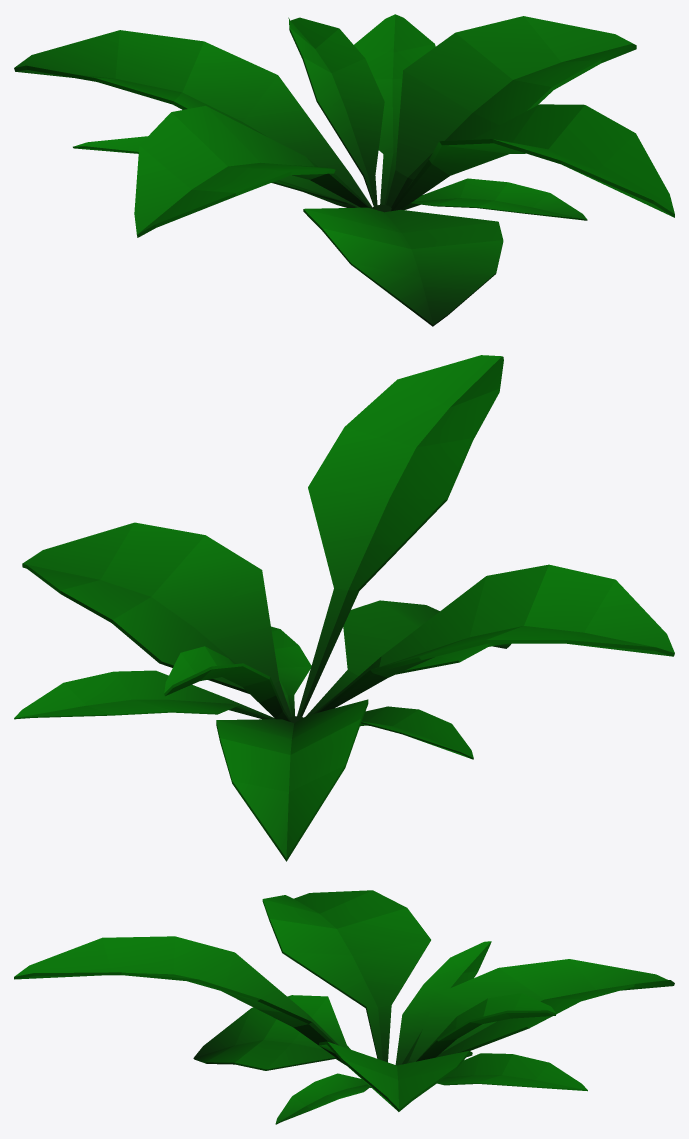
Rendered from Helecho_2_elementosDecorativos_T.fbx.
3 renders of one model, top to bottom at view 1: azimuth 30°, elevation 25°; view 2: azimuth 150°, elevation 25°; view 3: azimuth 270°, elevation 25°, orthographic. The views are drawn at different scales.
Parts seen in each view (by area): view 1: Helecho 1.001; view 2: Helecho 1.001; view 3: Helecho 1.001.
Part boxes in pixels (x1,y1,x2,y2): Helecho 1.001: [14, 14, 674, 326]; Helecho 1.001: [14, 355, 674, 861]; Helecho 1.001: [14, 890, 674, 1124].
Bounding box in the file's own units: 955 × 317 × 1267.
